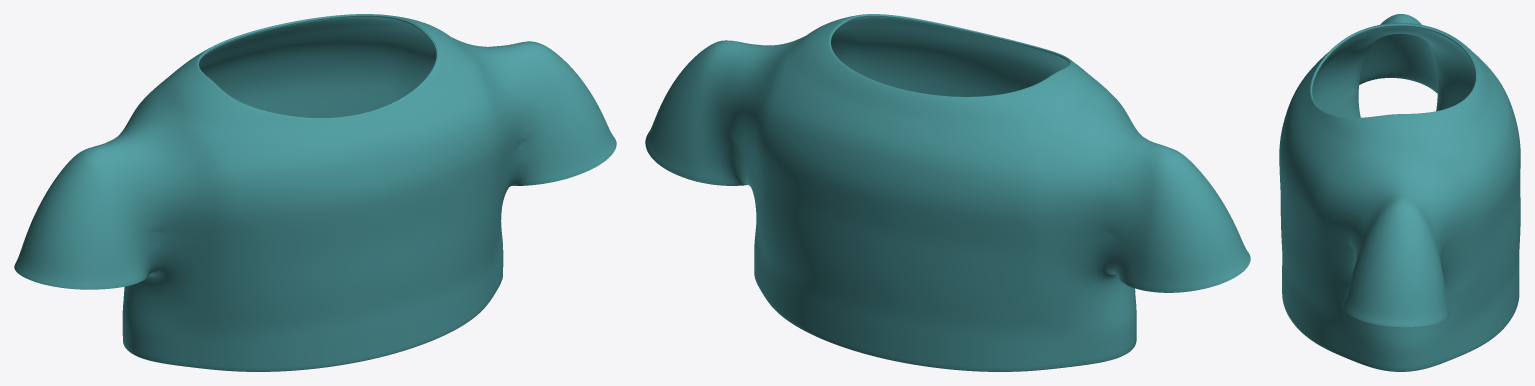
The model's file is Masculine-tshirt-top.glb.
The picture shows the model from 3 angles, left to right: view 1: azimuth 30°, elevation 25°; view 2: azimuth 150°, elevation 25°; view 3: azimuth 270°, elevation 25°; orthographic projection. The views are drawn at different scales.
Visible parts, largest first — view 1: Clothing / continuous T-shirt181, Neckline / seated181 export; view 2: Clothing / continuous T-shirt181, Neckline / seated181 export; view 3: Clothing / continuous T-shirt181, Neckline / seated181 export.
Part boxes in pixels (x1=…): Clothing / continuous T-shirt181: x1=14, y1=14, x2=616, y2=371; Neckline / seated181 export: x1=197, y1=14, x2=437, y2=118; Clothing / continuous T-shirt181: x1=645, y1=14, x2=1250, y2=371; Neckline / seated181 export: x1=829, y1=14, x2=1070, y2=97; Clothing / continuous T-shirt181: x1=1279, y1=14, x2=1520, y2=371; Neckline / seated181 export: x1=1310, y1=24, x2=1477, y2=117.
Size of the model in its own units: 1.11 by 0.4645 by 0.4517.
